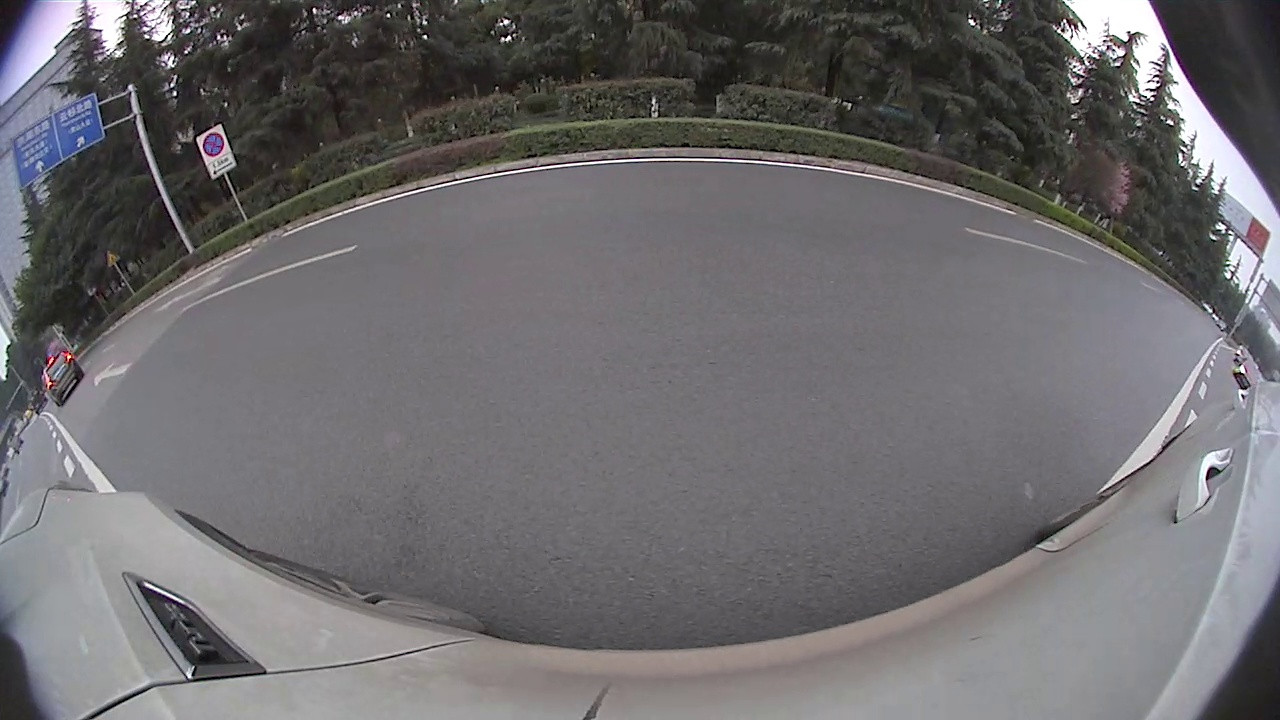car: (40, 350, 85, 408), (1232, 356, 1262, 391)
